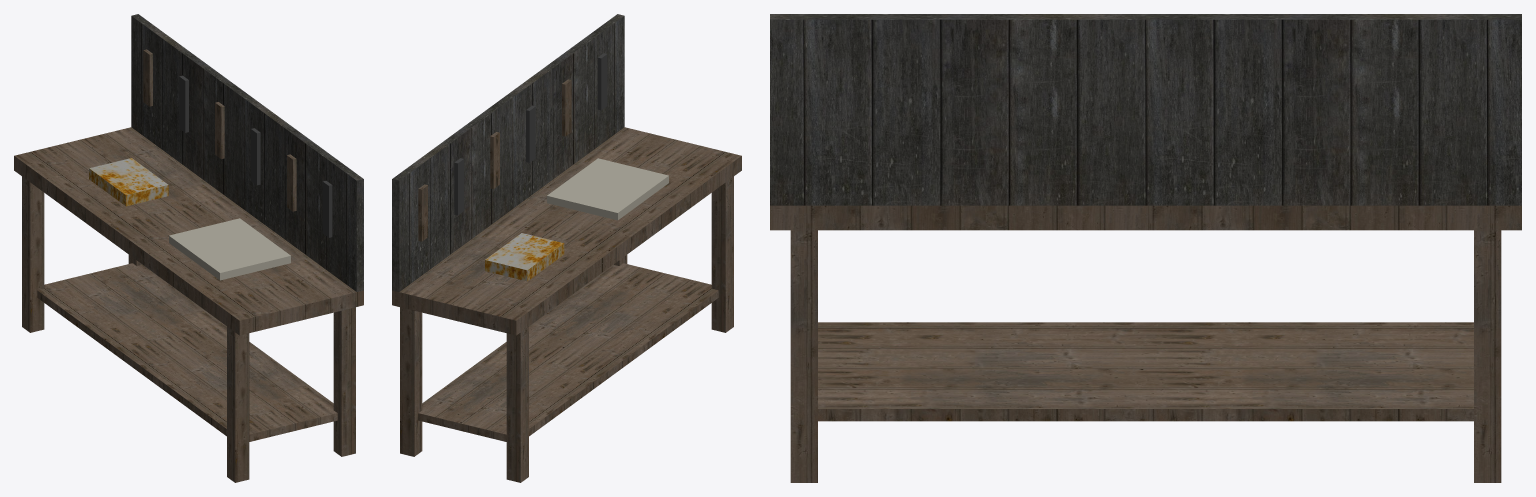
The model's file is workbench.glb.
3 renders of one model, left to right at view 1: azimuth 30°, elevation 25°; view 2: azimuth 150°, elevation 25°; view 3: azimuth 270°, elevation 25°, orthographic. The views are drawn at different scales.
Visible parts, largest first — view 1: workbench; view 2: workbench; view 3: workbench.
Part boxes in pixels (left/top/right/bottom): workbench: left=14, top=14, right=363, bottom=482; workbench: left=392, top=14, right=741, bottom=482; workbench: left=770, top=14, right=1521, bottom=482.
Size of the model in its own units: 0.7 by 1.5 by 2.2.
Materials: 5 (3 with a texture image).
